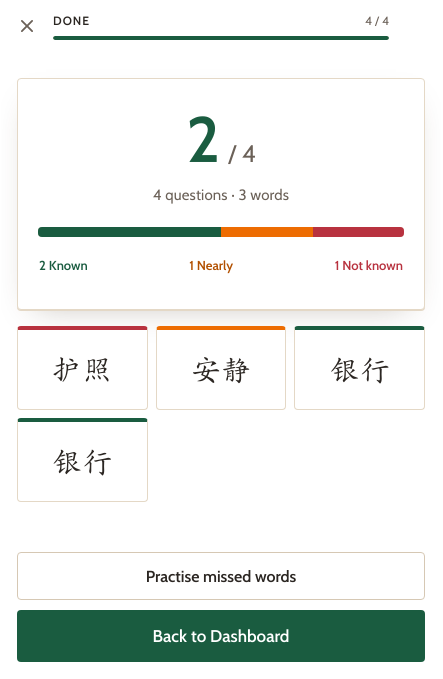
Test case: TestSummary — tiles › turns a tile back on a second tap
Click the button with aria-label "护照, Not known".
click(82, 368)  # box [17,326,148,410]
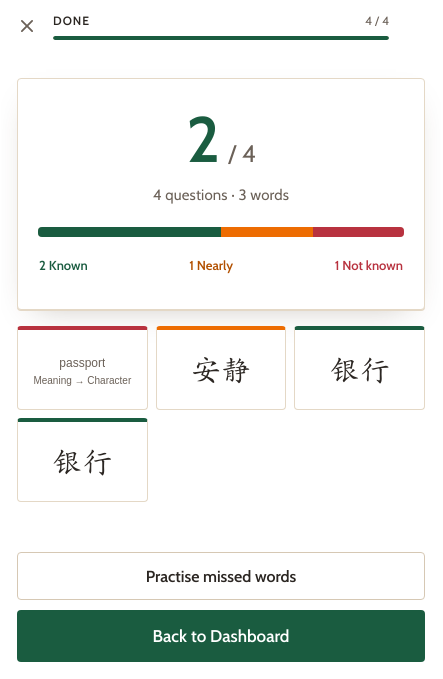
Click the button with aria-label "护照, Not known: ".
click(82, 368)  # box [17,326,148,410]
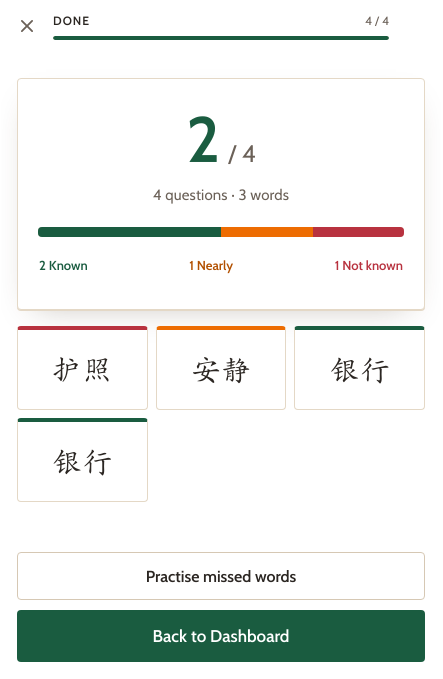
expect the text "passport" is gone: met
